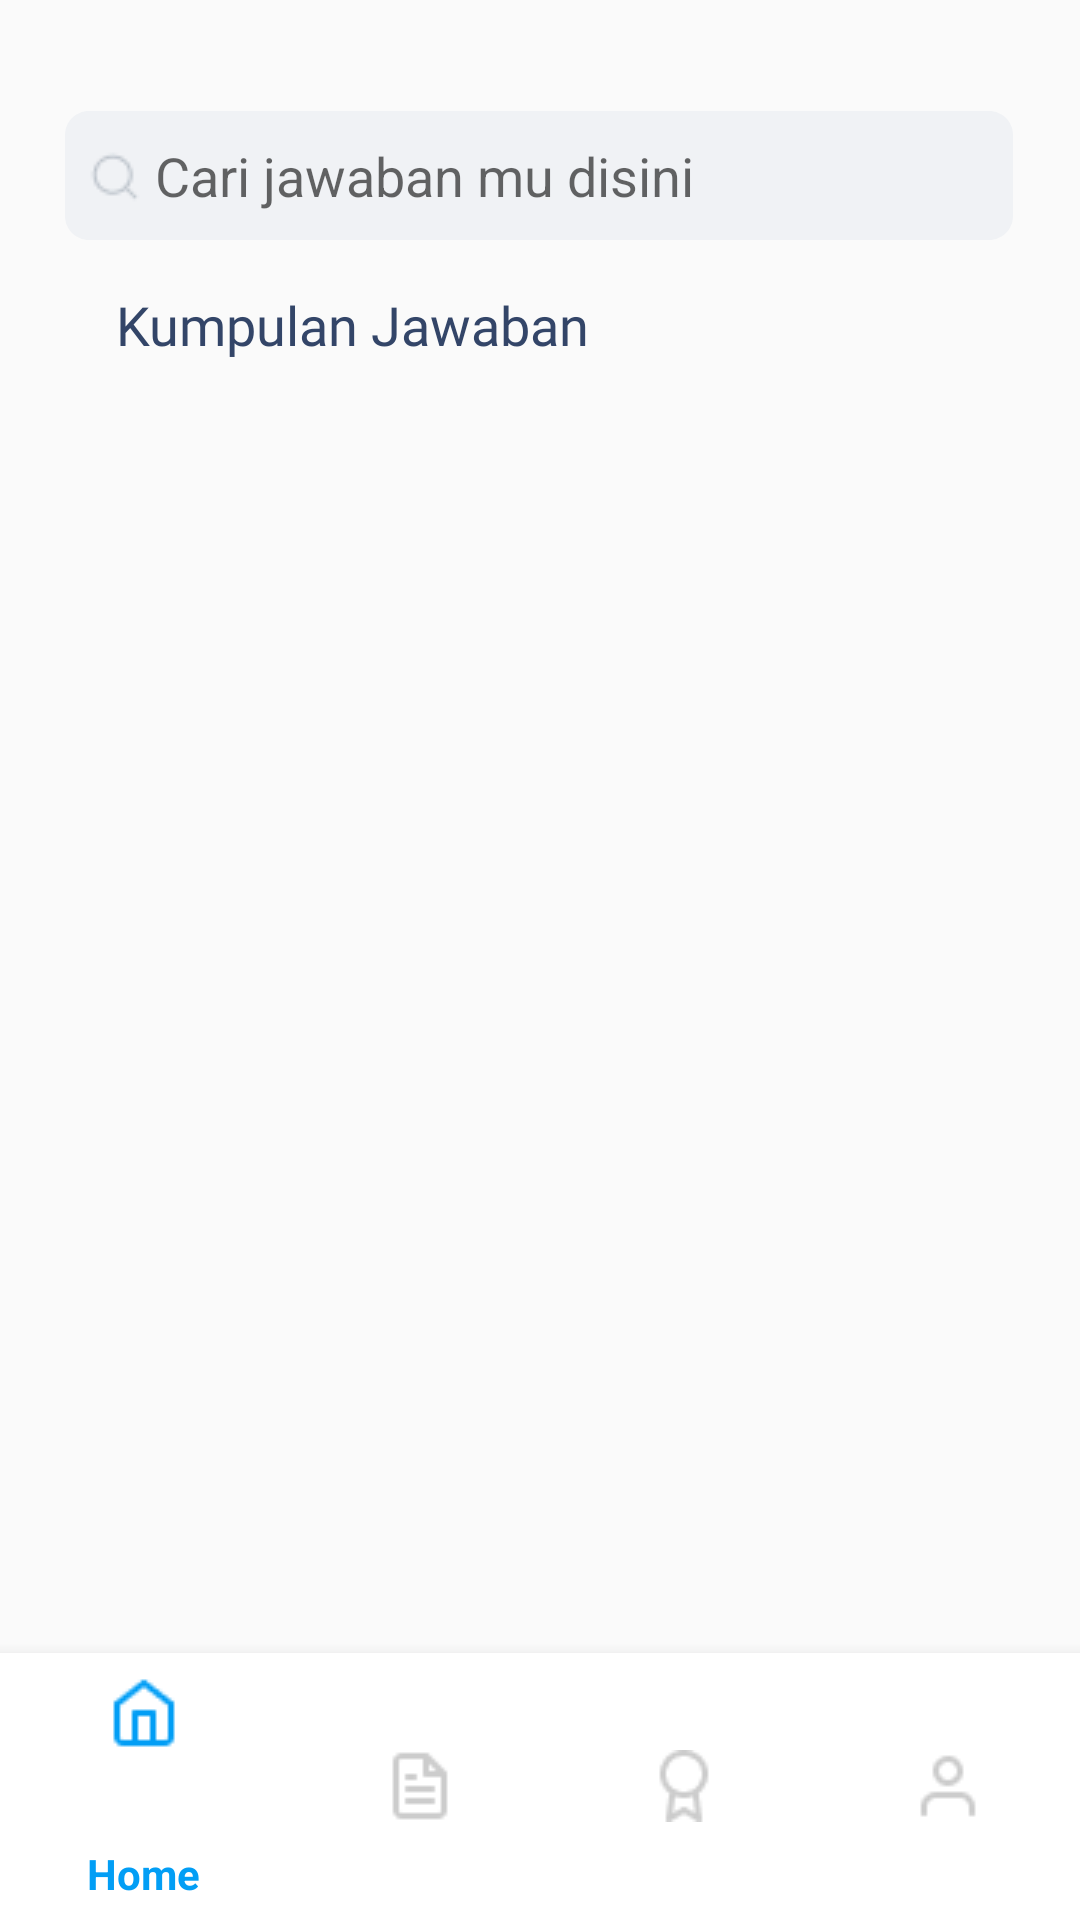

Where to tap for icons on this 1080×1920 app screen, as (x,y):
search: (115,177)
